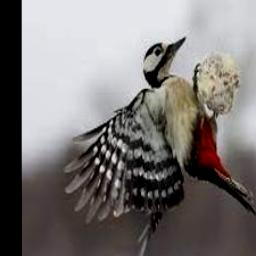Woodpecker: (64, 37, 256, 256)
